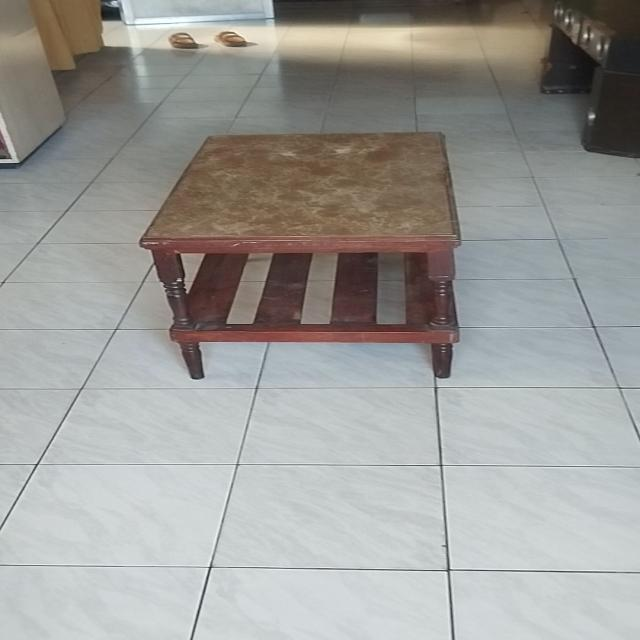table: (142, 128, 470, 386)
